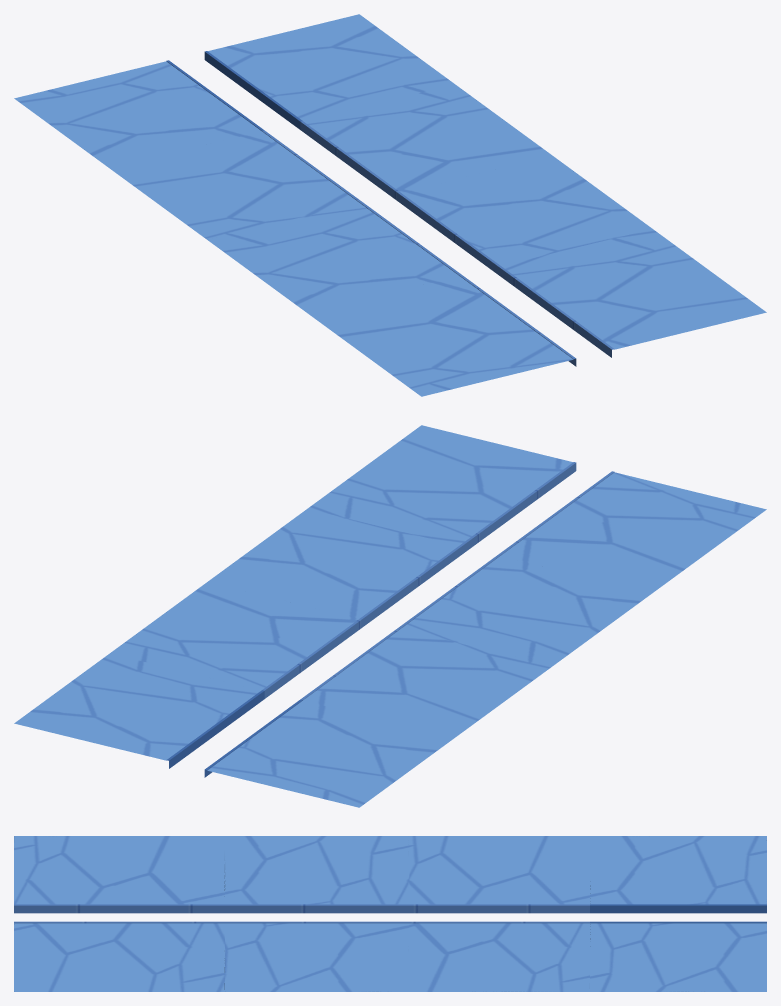
3 renders of one model, top to bottom at view 1: azimuth 30°, elevation 25°; view 2: azimuth 150°, elevation 25°; view 3: azimuth 270°, elevation 25°, orthographic. The views are drawn at different scales.
Visible parts, largest first — view 1: Default; view 2: Default; view 3: Default.
Boxes of the visible parts, x1,y1,x2,y2 form: Default: (14,14,766,396); Default: (14,425,766,807); Default: (14,836,766,991).
Bounding box in the file's own units: 1174 × 27.48 × 2400.
1 material, 1 textured.
